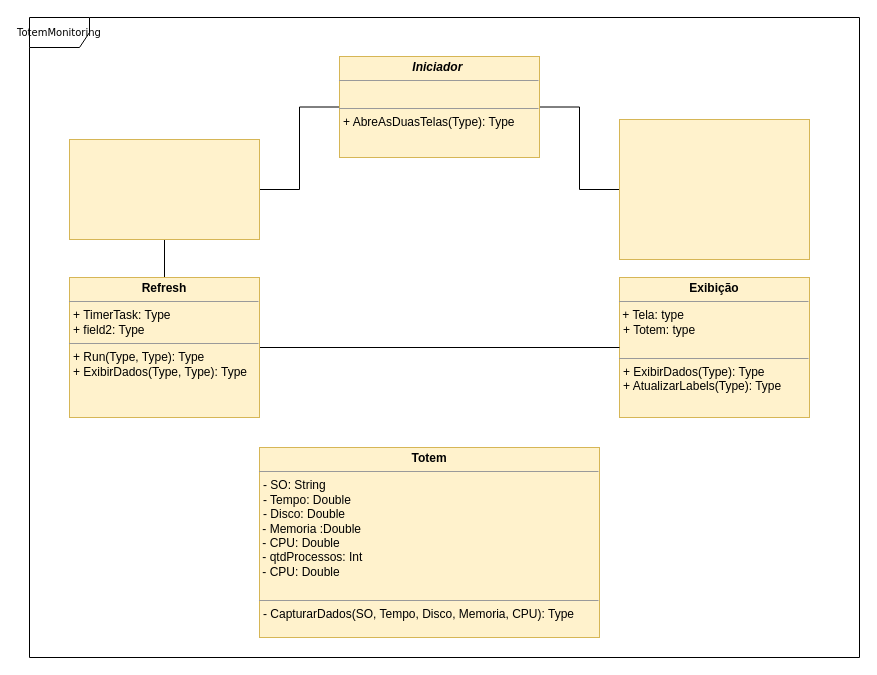
The diagram is 877 pixels wide and 675 high, and some of its shapes have lost their labels. Here are the shapes that lost their labels. From the top down, the centre of each, then its label:
(164,189): Tela HW + Refresh: type
(714,189): TelaPrcessos + Tela: type + Totem: type + ExibirDados(Type): Type
